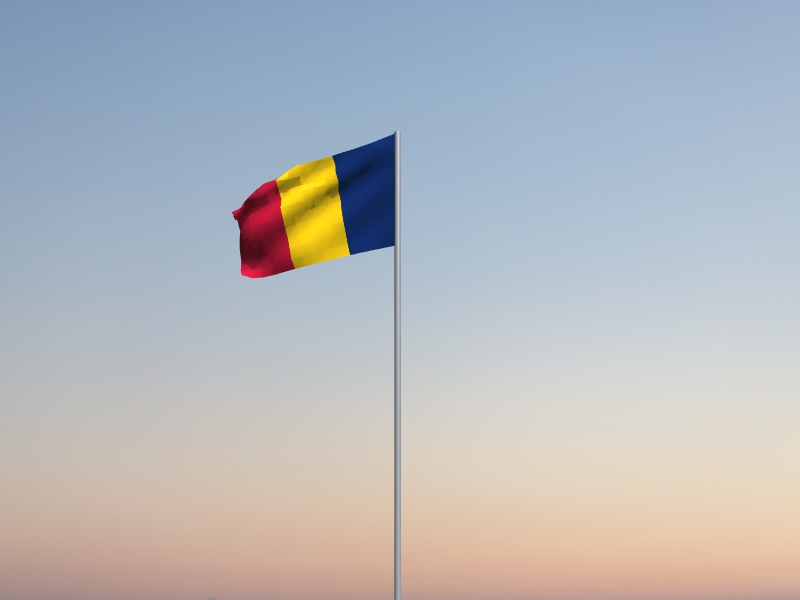td: (231, 134, 395, 280)
